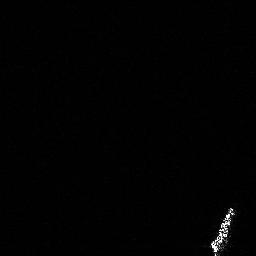ship: (207, 204, 239, 256)
